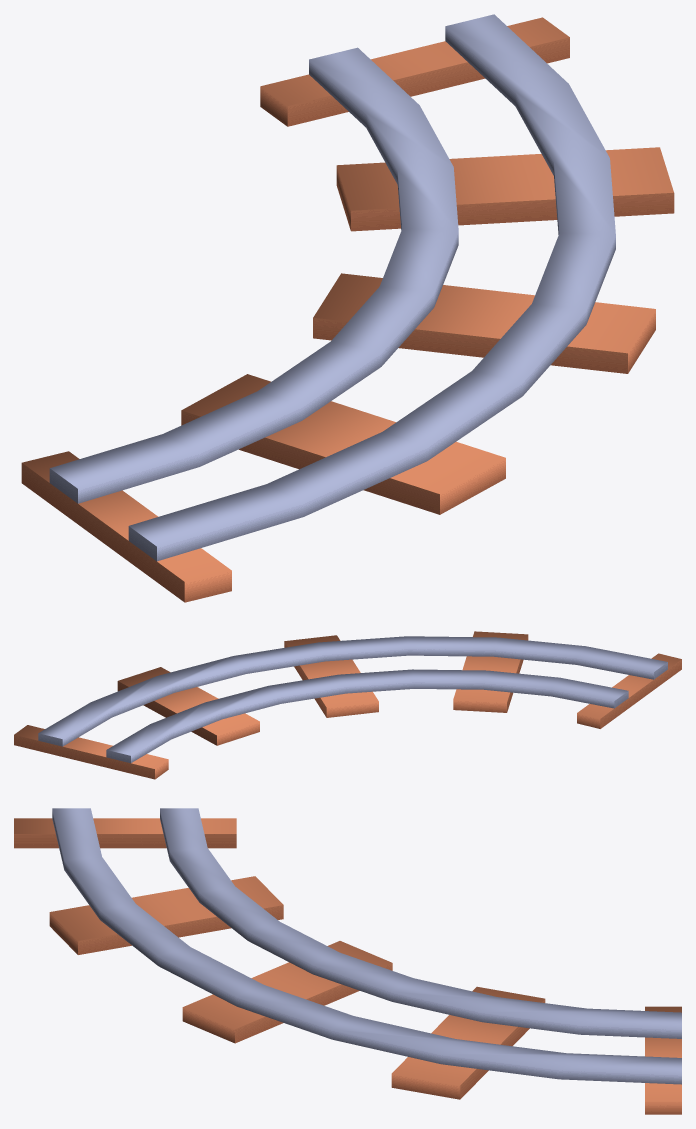
Rendered from trainset-rail-detailed-bend.glb.
3 renders of one model, top to bottom at view 1: azimuth 30°, elevation 25°; view 2: azimuth 150°, elevation 25°; view 3: azimuth 270°, elevation 25°, orthographic. The views are drawn at different scales.
Visible parts, largest first — view 1: trainset-rail-detailed-bend; view 2: trainset-rail-detailed-bend; view 3: trainset-rail-detailed-bend.
Boxes of the visible parts, bbox=[...] form: trainset-rail-detailed-bend: bbox=[21, 14, 674, 602]; trainset-rail-detailed-bend: bbox=[14, 631, 681, 779]; trainset-rail-detailed-bend: bbox=[14, 808, 681, 1114].
Size of the model in its own units: 2.7 by 0.1085 by 2.7.
1 material, 1 textured.
